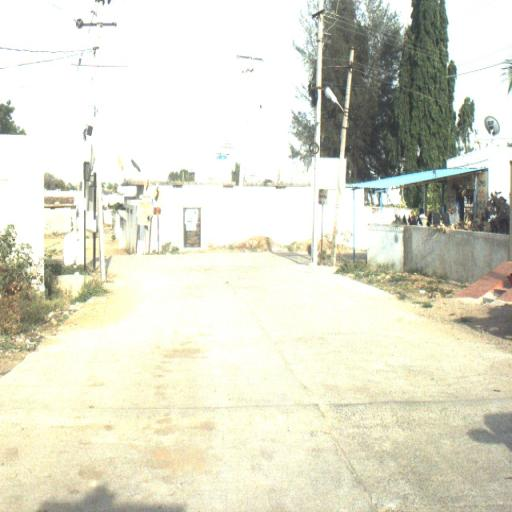street_light_0: (324, 87, 350, 139)
